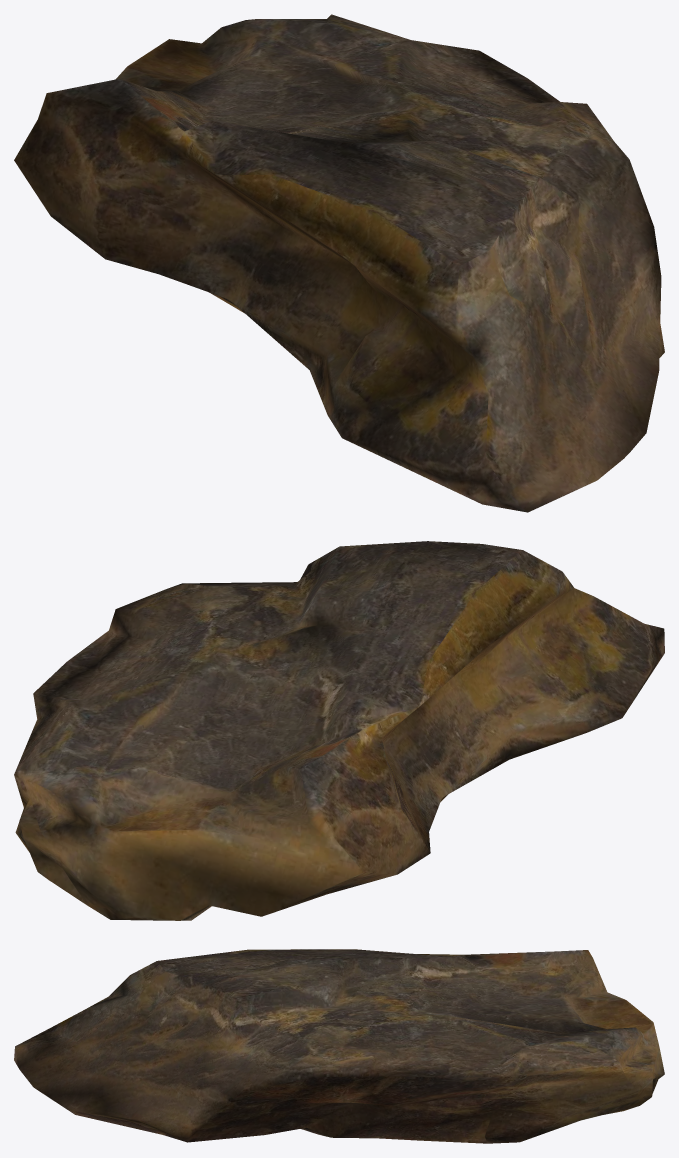
File: rock_09.glb
3 renders of one model, top to bottom at view 1: azimuth 30°, elevation 25°; view 2: azimuth 150°, elevation 25°; view 3: azimuth 270°, elevation 25°, orthographic. The views are drawn at different scales.
Parts seen in each view (by area): view 1: rock_09_LOD0; view 2: rock_09_LOD0; view 3: rock_09_LOD0.
Part boxes in pixels (bbox=[...]): rock_09_LOD0: bbox=[14, 14, 664, 512]; rock_09_LOD0: bbox=[14, 541, 664, 920]; rock_09_LOD0: bbox=[14, 949, 664, 1143].
Bounding box in the file's own units: 0.0738 × 0.0326 × 0.1442.
1 material, 1 textured.
